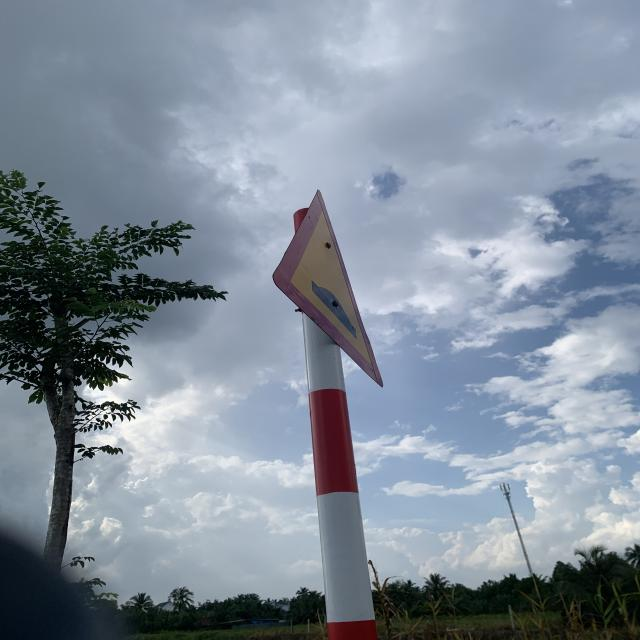Duong_Cong_Ben_Phai: (272, 184, 390, 389)
